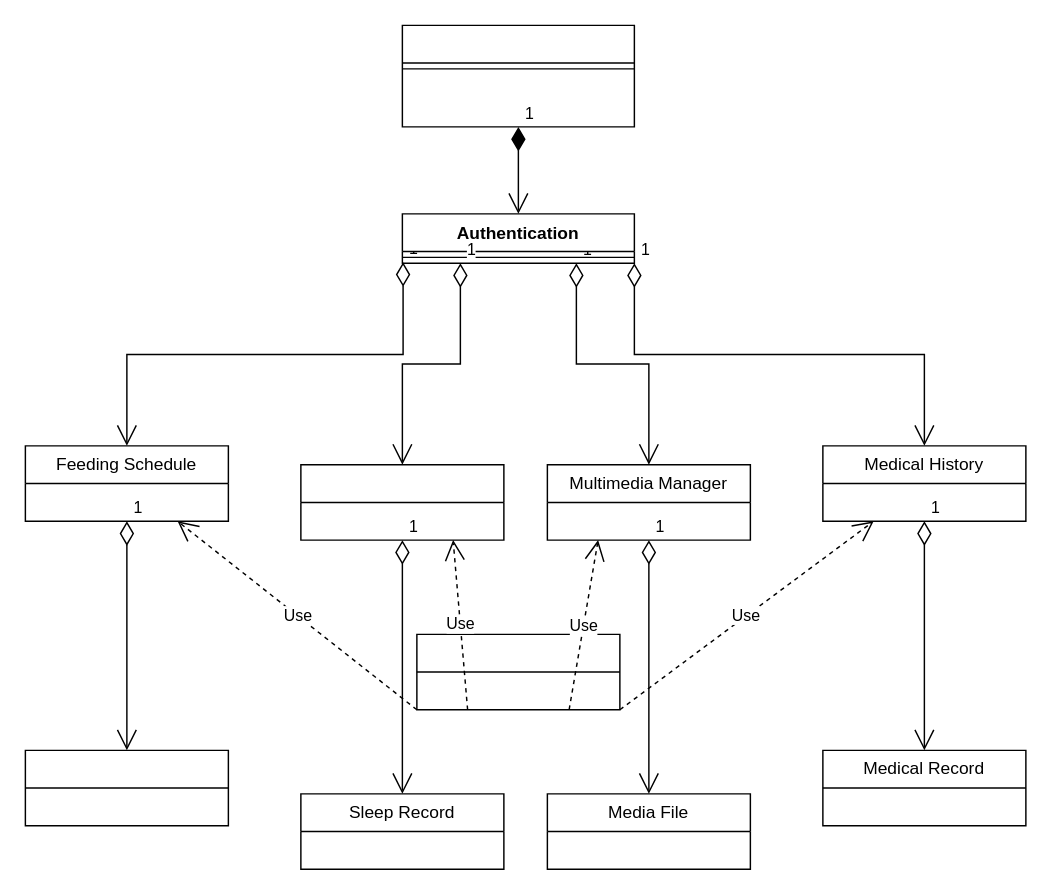
Image size: 1051x895. Some labels were removed from this diagram. Each missing label, with the box of its shape:
ChildCare Manager: (401, 24, 634, 127)
Feeding Record: (24, 749, 228, 826)
Interface: (415, 633, 620, 710)
Sleep Schedule: (299, 463, 504, 540)
